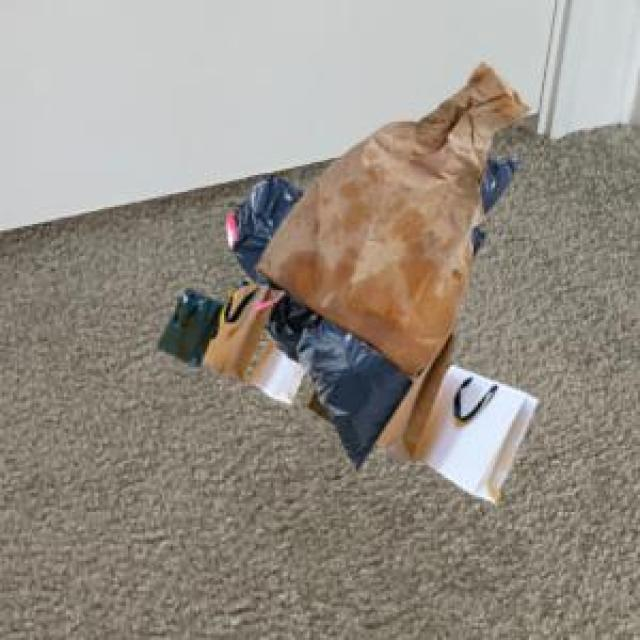miscellaneous trash: (222, 154, 516, 465)
paper: (250, 60, 525, 376), (154, 273, 533, 497)
